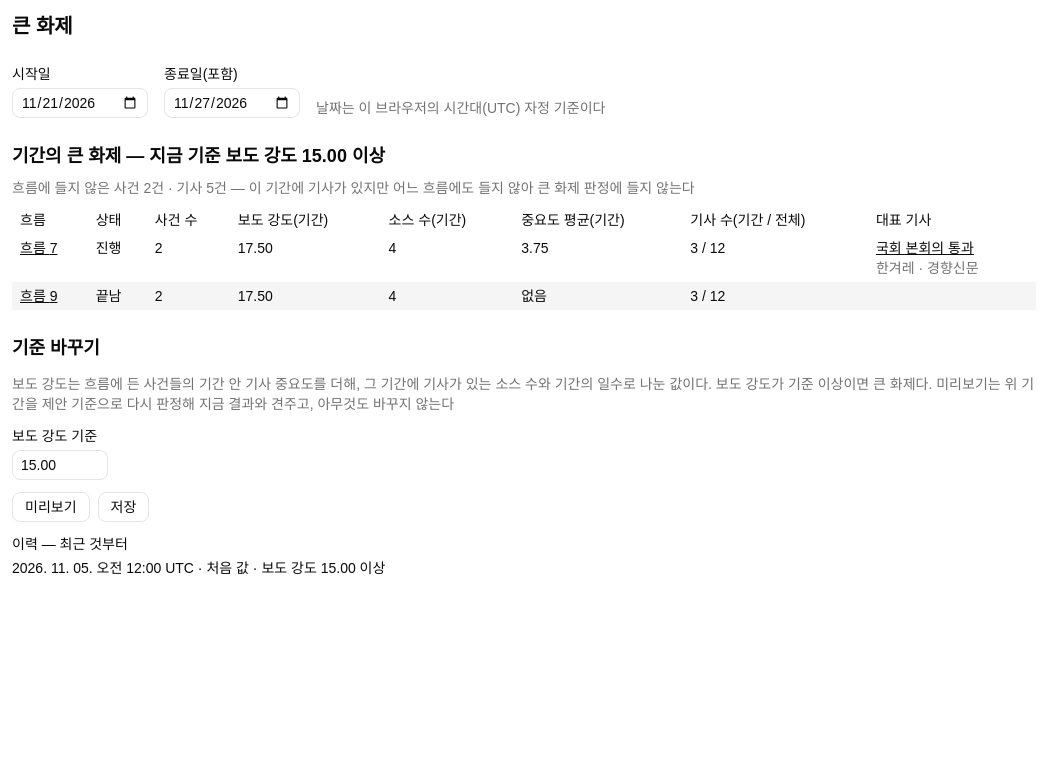
Test case: BigStorylinesPage › 보도 강도 기준이 수가 아니면 미리 보지 않는다
This screenshot has width=1048, height=780.
Type "x" into the field labelled "보도 강도 기준" at (60, 465), box left=12, top=450, right=108, bottom=480
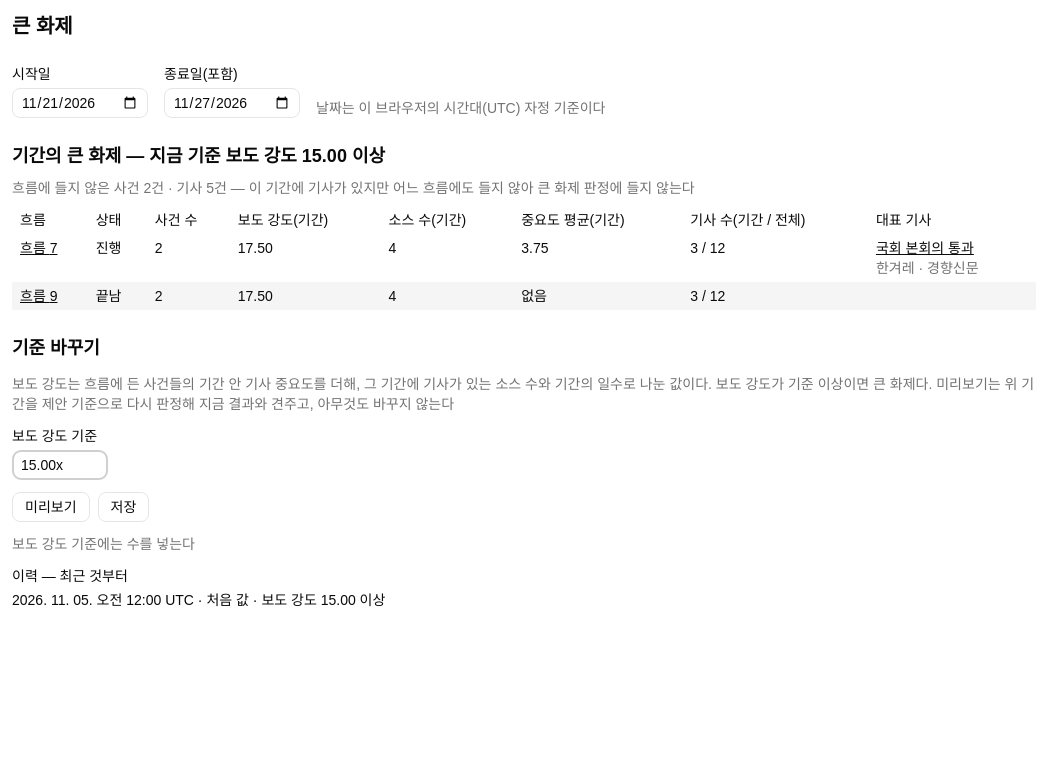
Expected: the button "미리보기" is disabled, left=12, top=492, right=90, bottom=522
Expected: the text "보도 강도 기준에는 수를 넣는다" is shown, left=12, top=536, right=195, bottom=552
